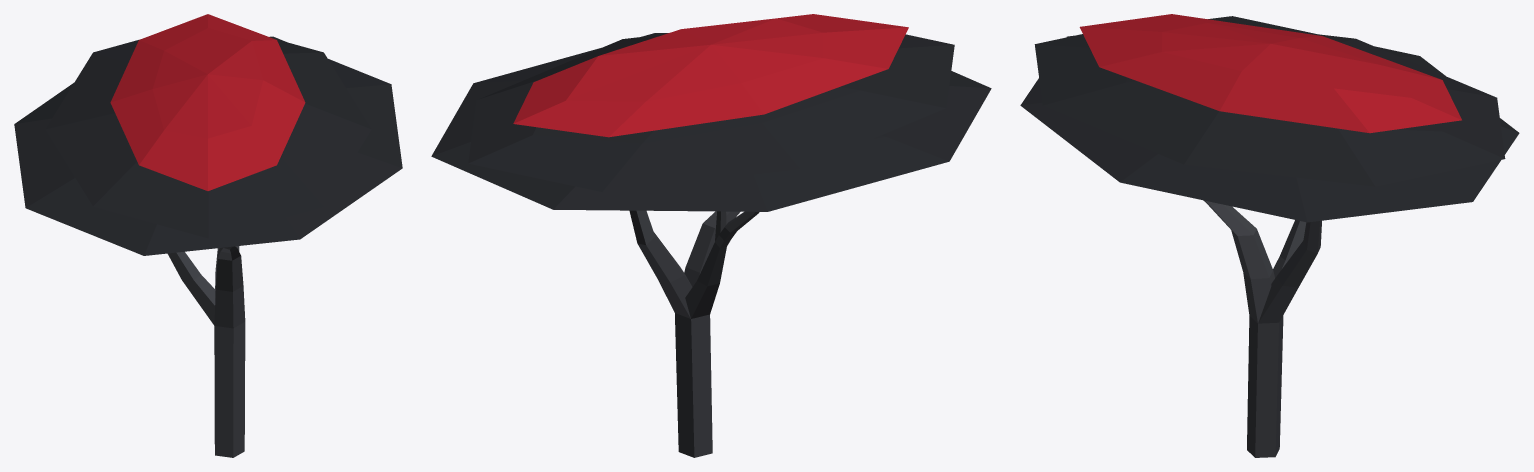
The model's file is alien_tree_vertexcolors.glb.
3 renders of one model, left to right at view 1: azimuth 30°, elevation 25°; view 2: azimuth 150°, elevation 25°; view 3: azimuth 270°, elevation 25°, orthographic. The views are drawn at different scales.
Parts seen in each view (by area): view 1: SP_Tree01; view 2: SP_Tree01; view 3: SP_Tree01.
Part boxes in pixels (left/top/right/bottom): SP_Tree01: left=14, top=14, right=402, bottom=457; SP_Tree01: left=431, top=14, right=991, bottom=457; SP_Tree01: left=1020, top=14, right=1519, bottom=457.
Size of the model in its own units: 4.29 by 3.87 by 4.39.
